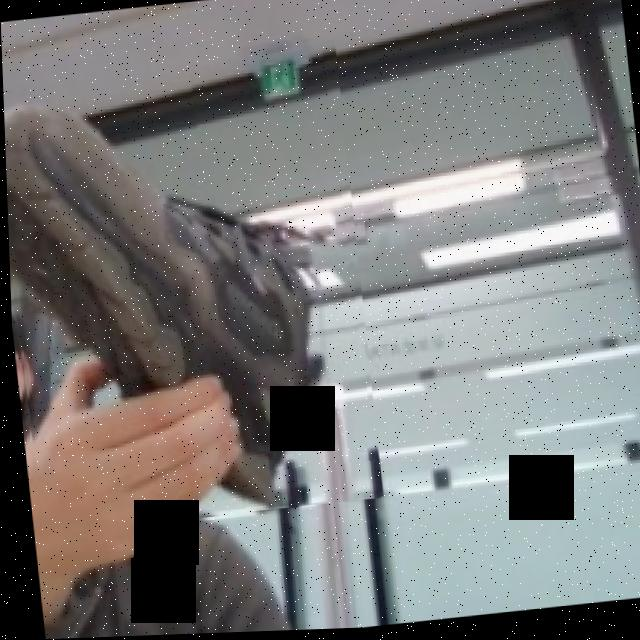shoe: (1, 37, 380, 537)
